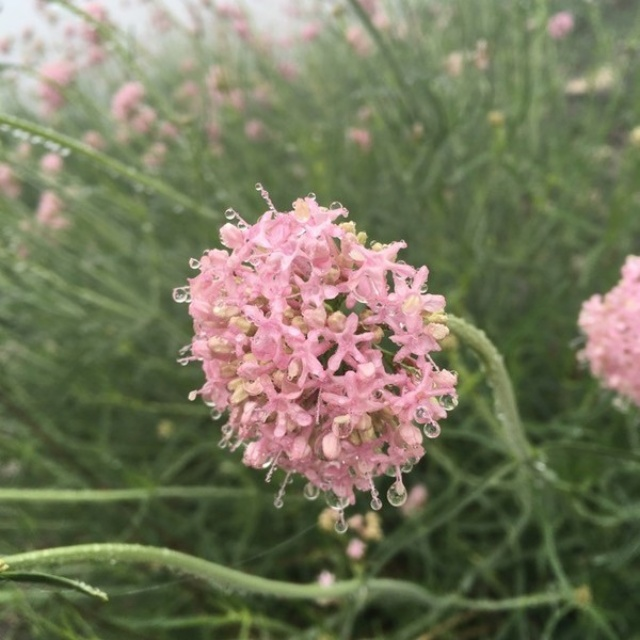obstacle: (171, 186, 460, 532)
